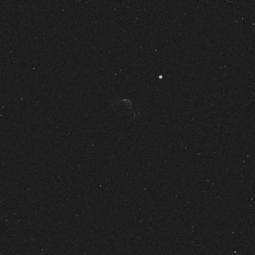soho: (112, 60, 180, 118)
